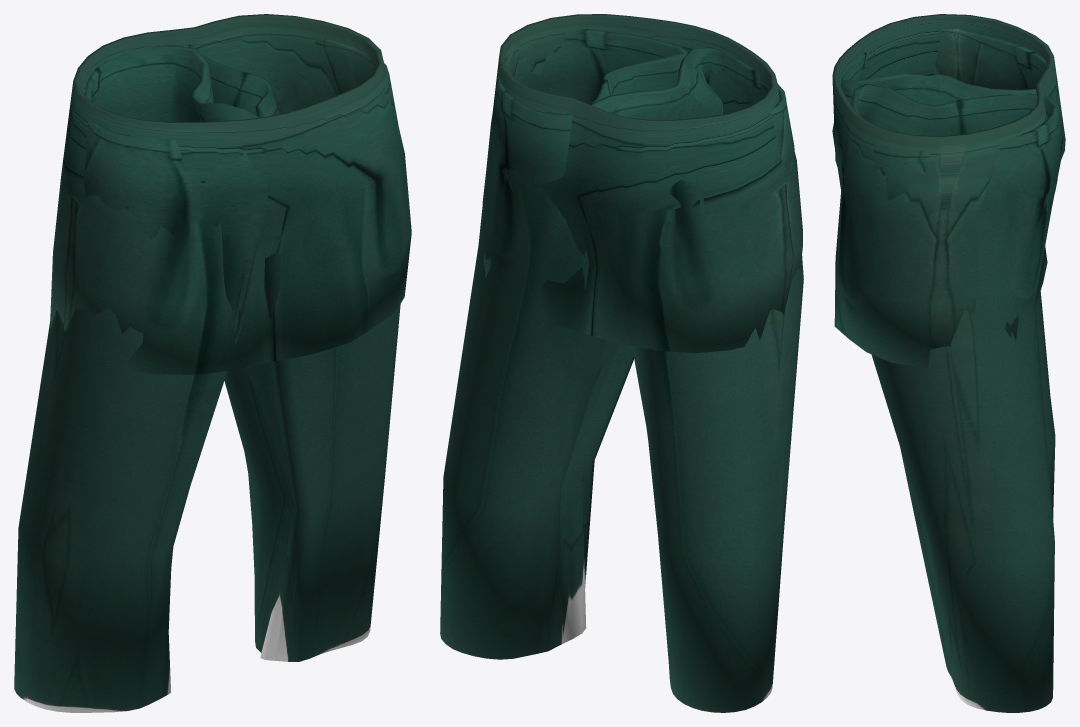
File: 53d3303a-a37a-43a1-abc2-1a7d7fc10f43.glb
3 views of the same model, side by side, from view 1: azimuth 30°, elevation 25°; view 2: azimuth 150°, elevation 25°; view 3: azimuth 270°, elevation 25° (orthographic). The views are drawn at different scales.
Visible parts, largest first — view 1: garment_leg0; view 2: garment_leg0; view 3: garment_leg0.
Boxes of the visible parts, box(x1,y1,x2,y2) form: garment_leg0: box(14, 14, 411, 712); garment_leg0: box(440, 14, 803, 712); garment_leg0: box(832, 14, 1065, 712).
Size of the model in its own units: 0.4492 by 0.7726 by 0.2885.
Materials: 1 (1 with a texture image).
